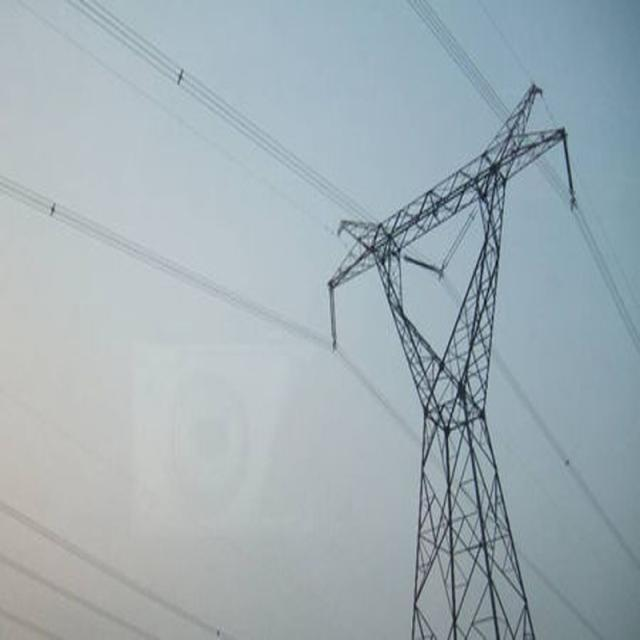non-critical vegetation: (280, 48, 578, 636)
